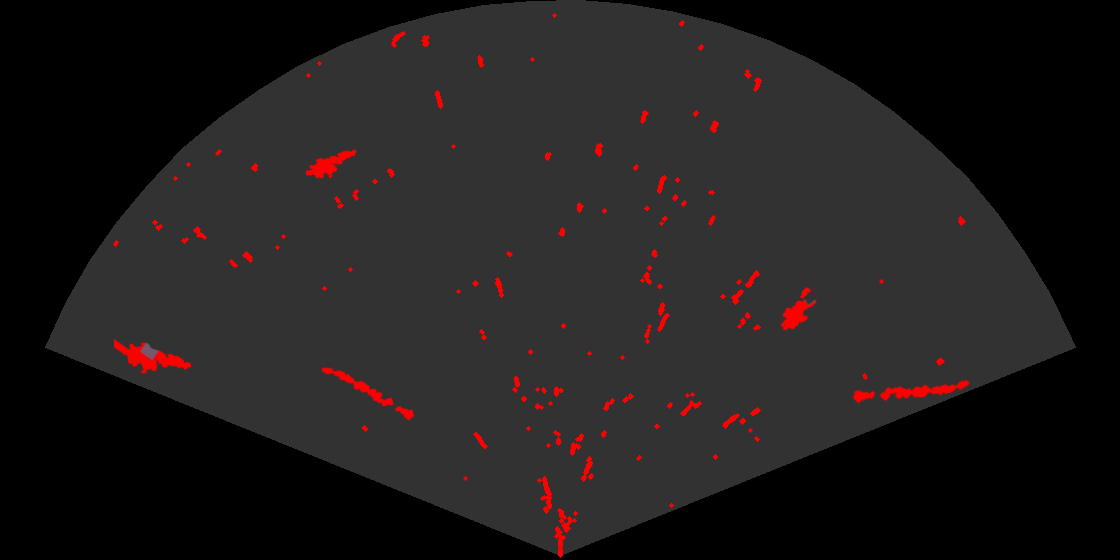AUV: (779, 298, 818, 332)
chain: (320, 365, 416, 422), (851, 378, 972, 405)
frogman: (114, 337, 193, 376), (306, 148, 358, 180)
